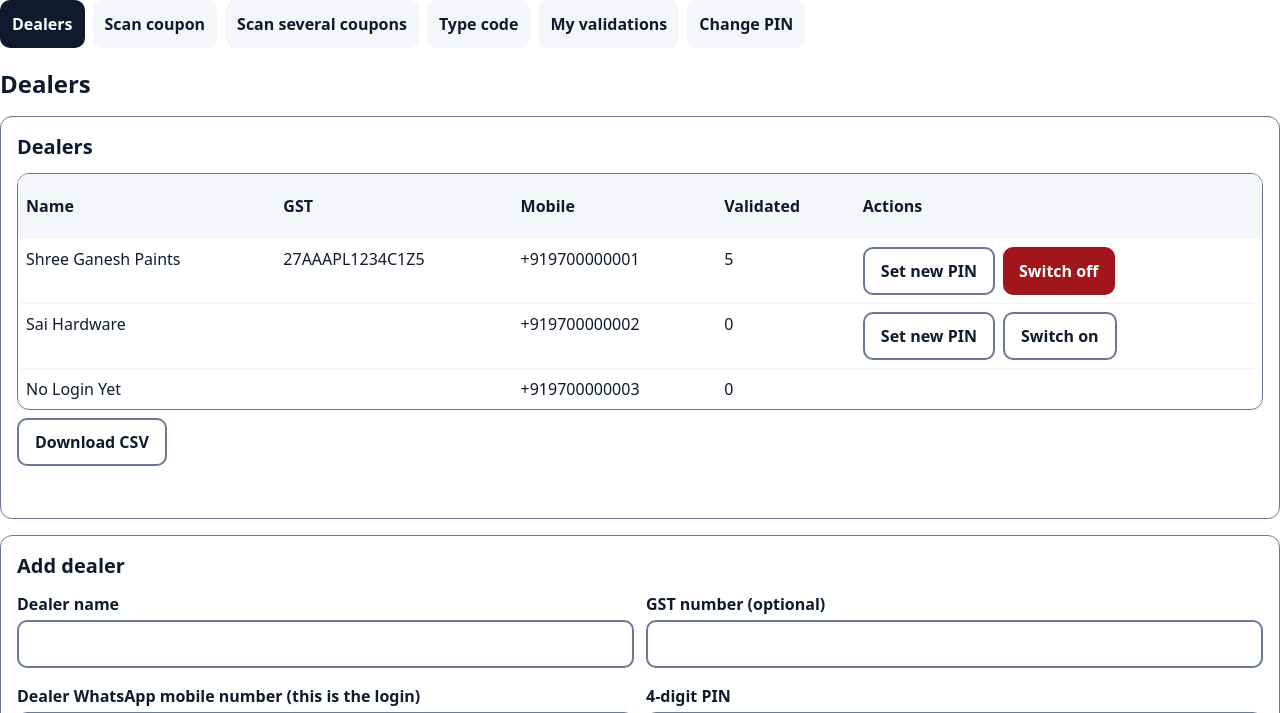
Test: distributor and sales rep: dealers › lists dealers and adds one with a PIN; GST is optional
expect the text "Shree Ganesh Paints" is shown: met, box [18,238,275,304]
expect the text "27AAAPL1234C1Z5" is shown: met, box [275,238,512,304]
Type "Om Paints" into the field labelled "Dealer name".
click(326, 644); type("Om Paints")  # box [17,620,634,668]
(page scrolled)
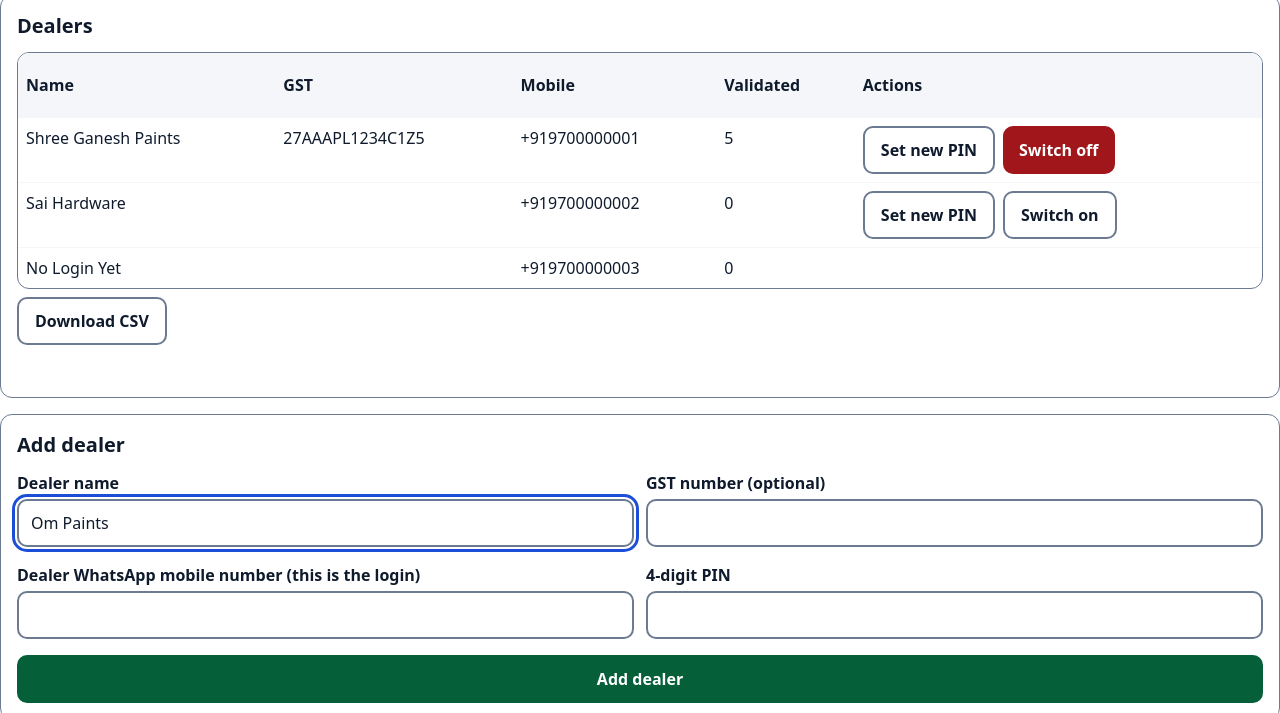
Type "98222 00001" into the field labelled "Dealer WhatsApp mobile number (this is the login)".
click(326, 615); type("98222 00001")  # box [17,591,634,639]
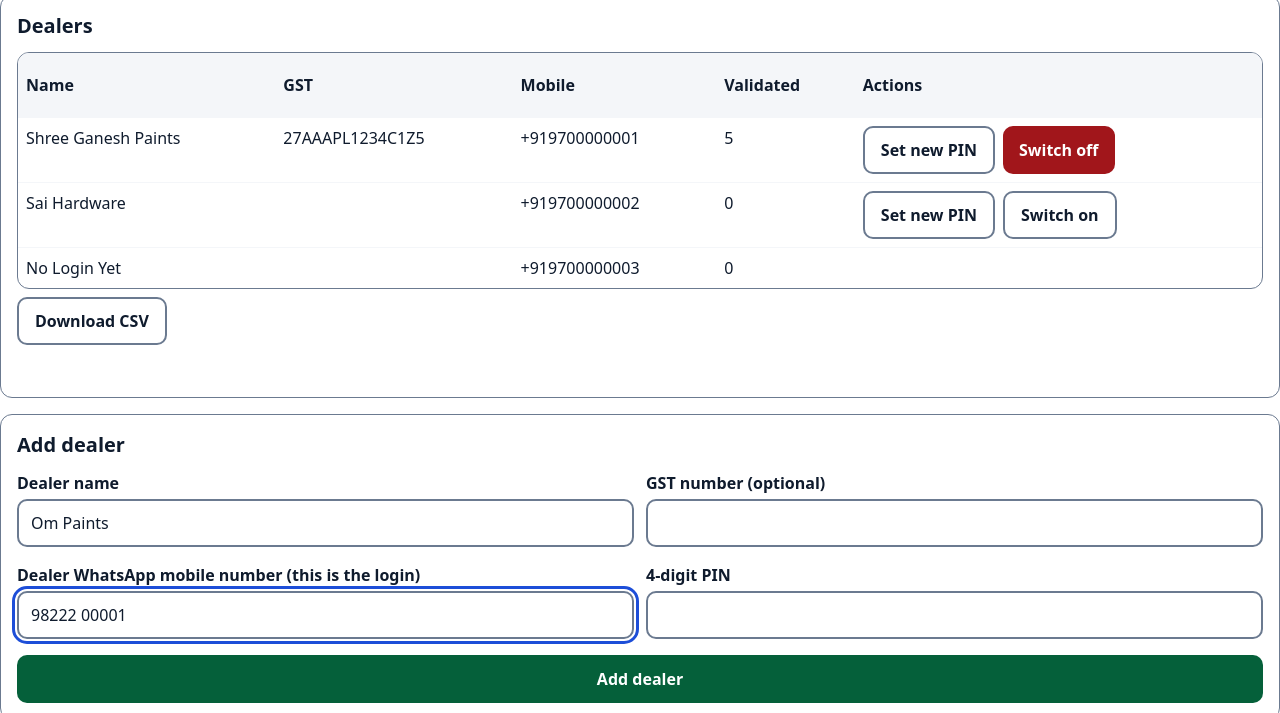
Type "24x68" into the password field labelled "4-digit PIN".
click(954, 615); type("24x68")  # box [646,591,1263,639]
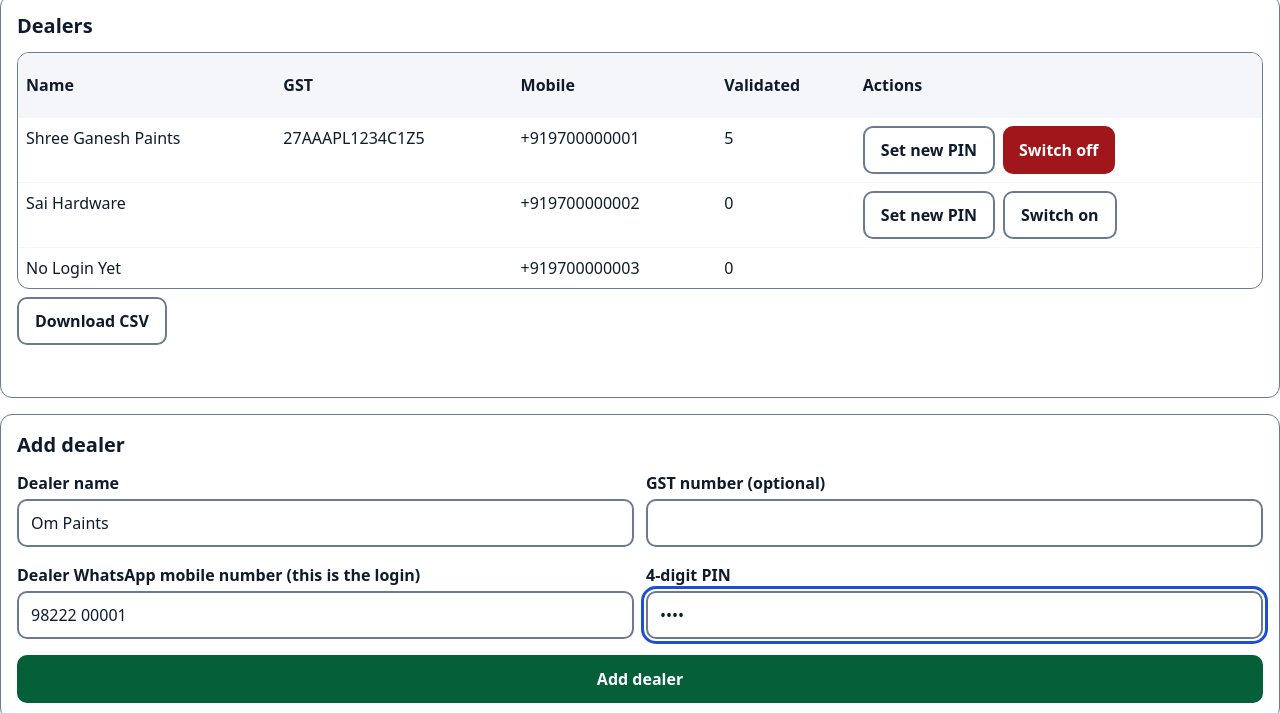
Click the button "Add dealer".
click(640, 679)  # box [17,655,1263,703]
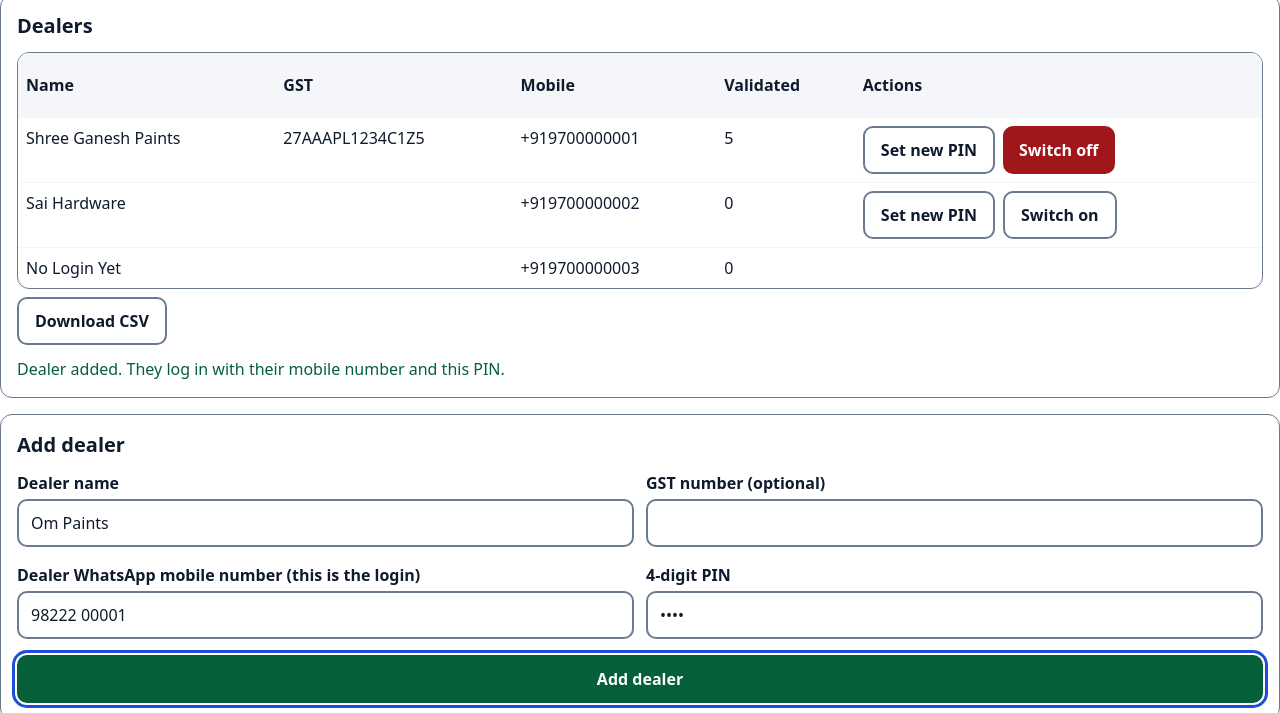
expect the text "Dealer added. They log in with their mobile number and this PIN." is shown: met, box [17,358,505,380]
